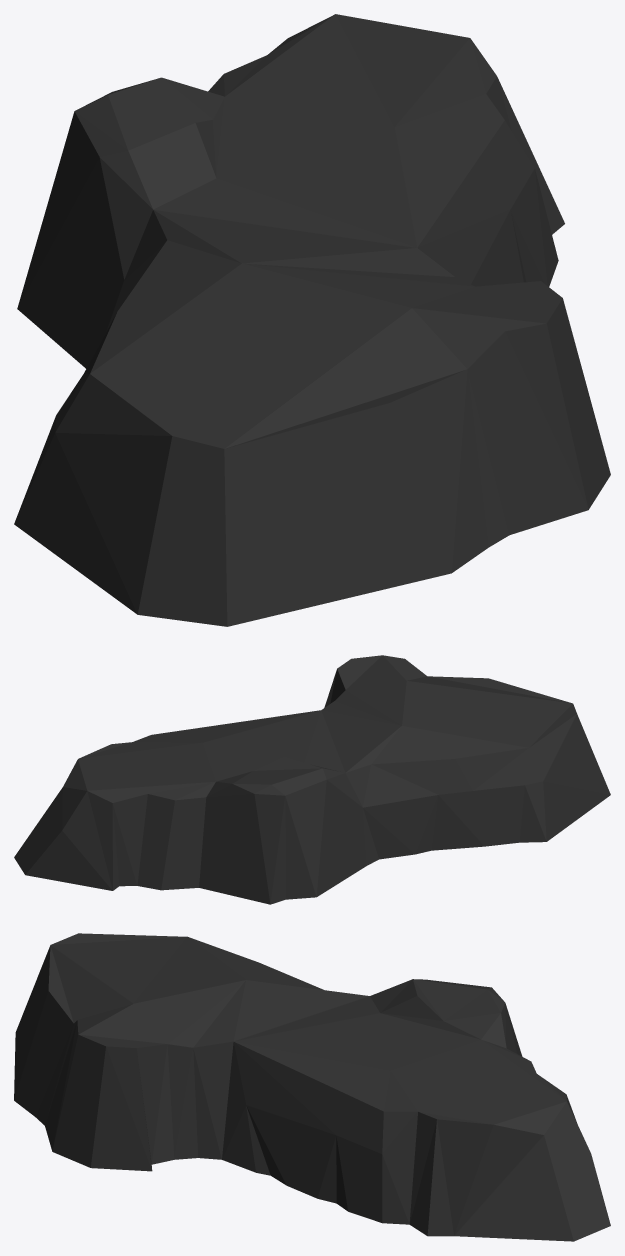
The model's file is rock_04.FBX.
The picture shows the model from 3 angles, top to bottom: view 1: azimuth 30°, elevation 25°; view 2: azimuth 150°, elevation 25°; view 3: azimuth 270°, elevation 25°; orthographic projection. The views are drawn at different scales.
Visible parts, largest first — view 1: rock_04; view 2: rock_04; view 3: rock_04.
Part boxes in pixels (box(x1,y1,x2,y2)): rock_04: box(14, 14, 610, 626); rock_04: box(14, 655, 610, 904); rock_04: box(14, 933, 610, 1241).
Size of the model in its own units: 6.92 by 1.78 by 7.72.
